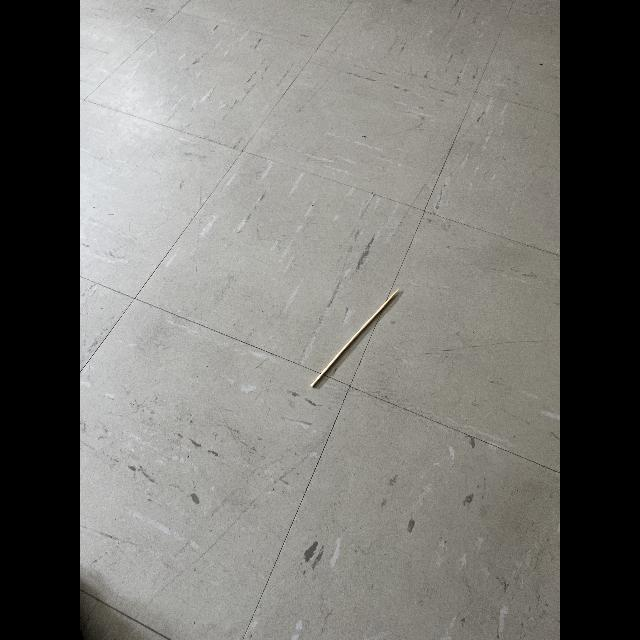stick: (308, 285, 417, 393)
